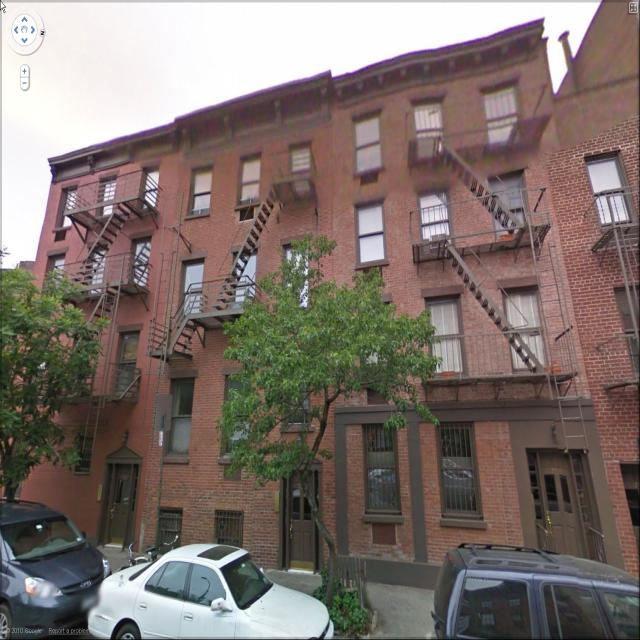b_1: (395, 62, 613, 544), (54, 96, 374, 334)
b_2: (174, 66, 422, 575), (18, 130, 186, 564)
